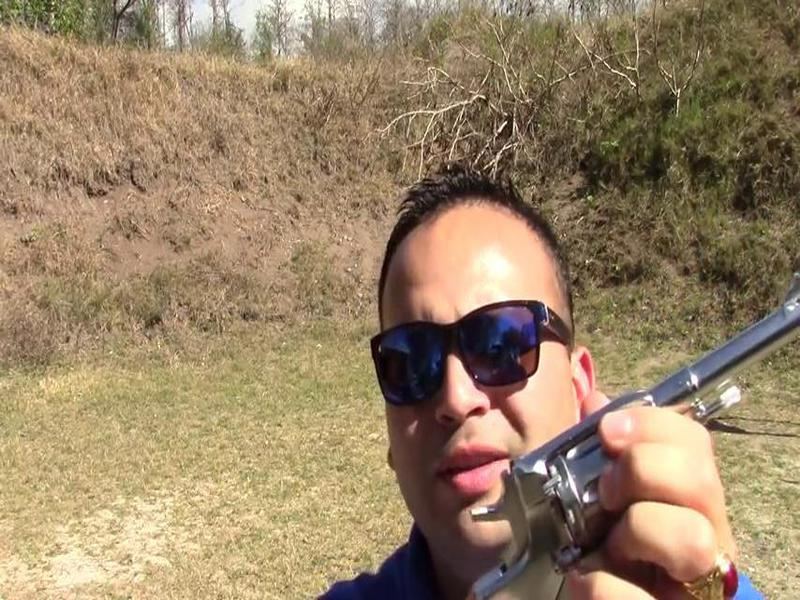Revolver: (456, 294, 800, 584)
